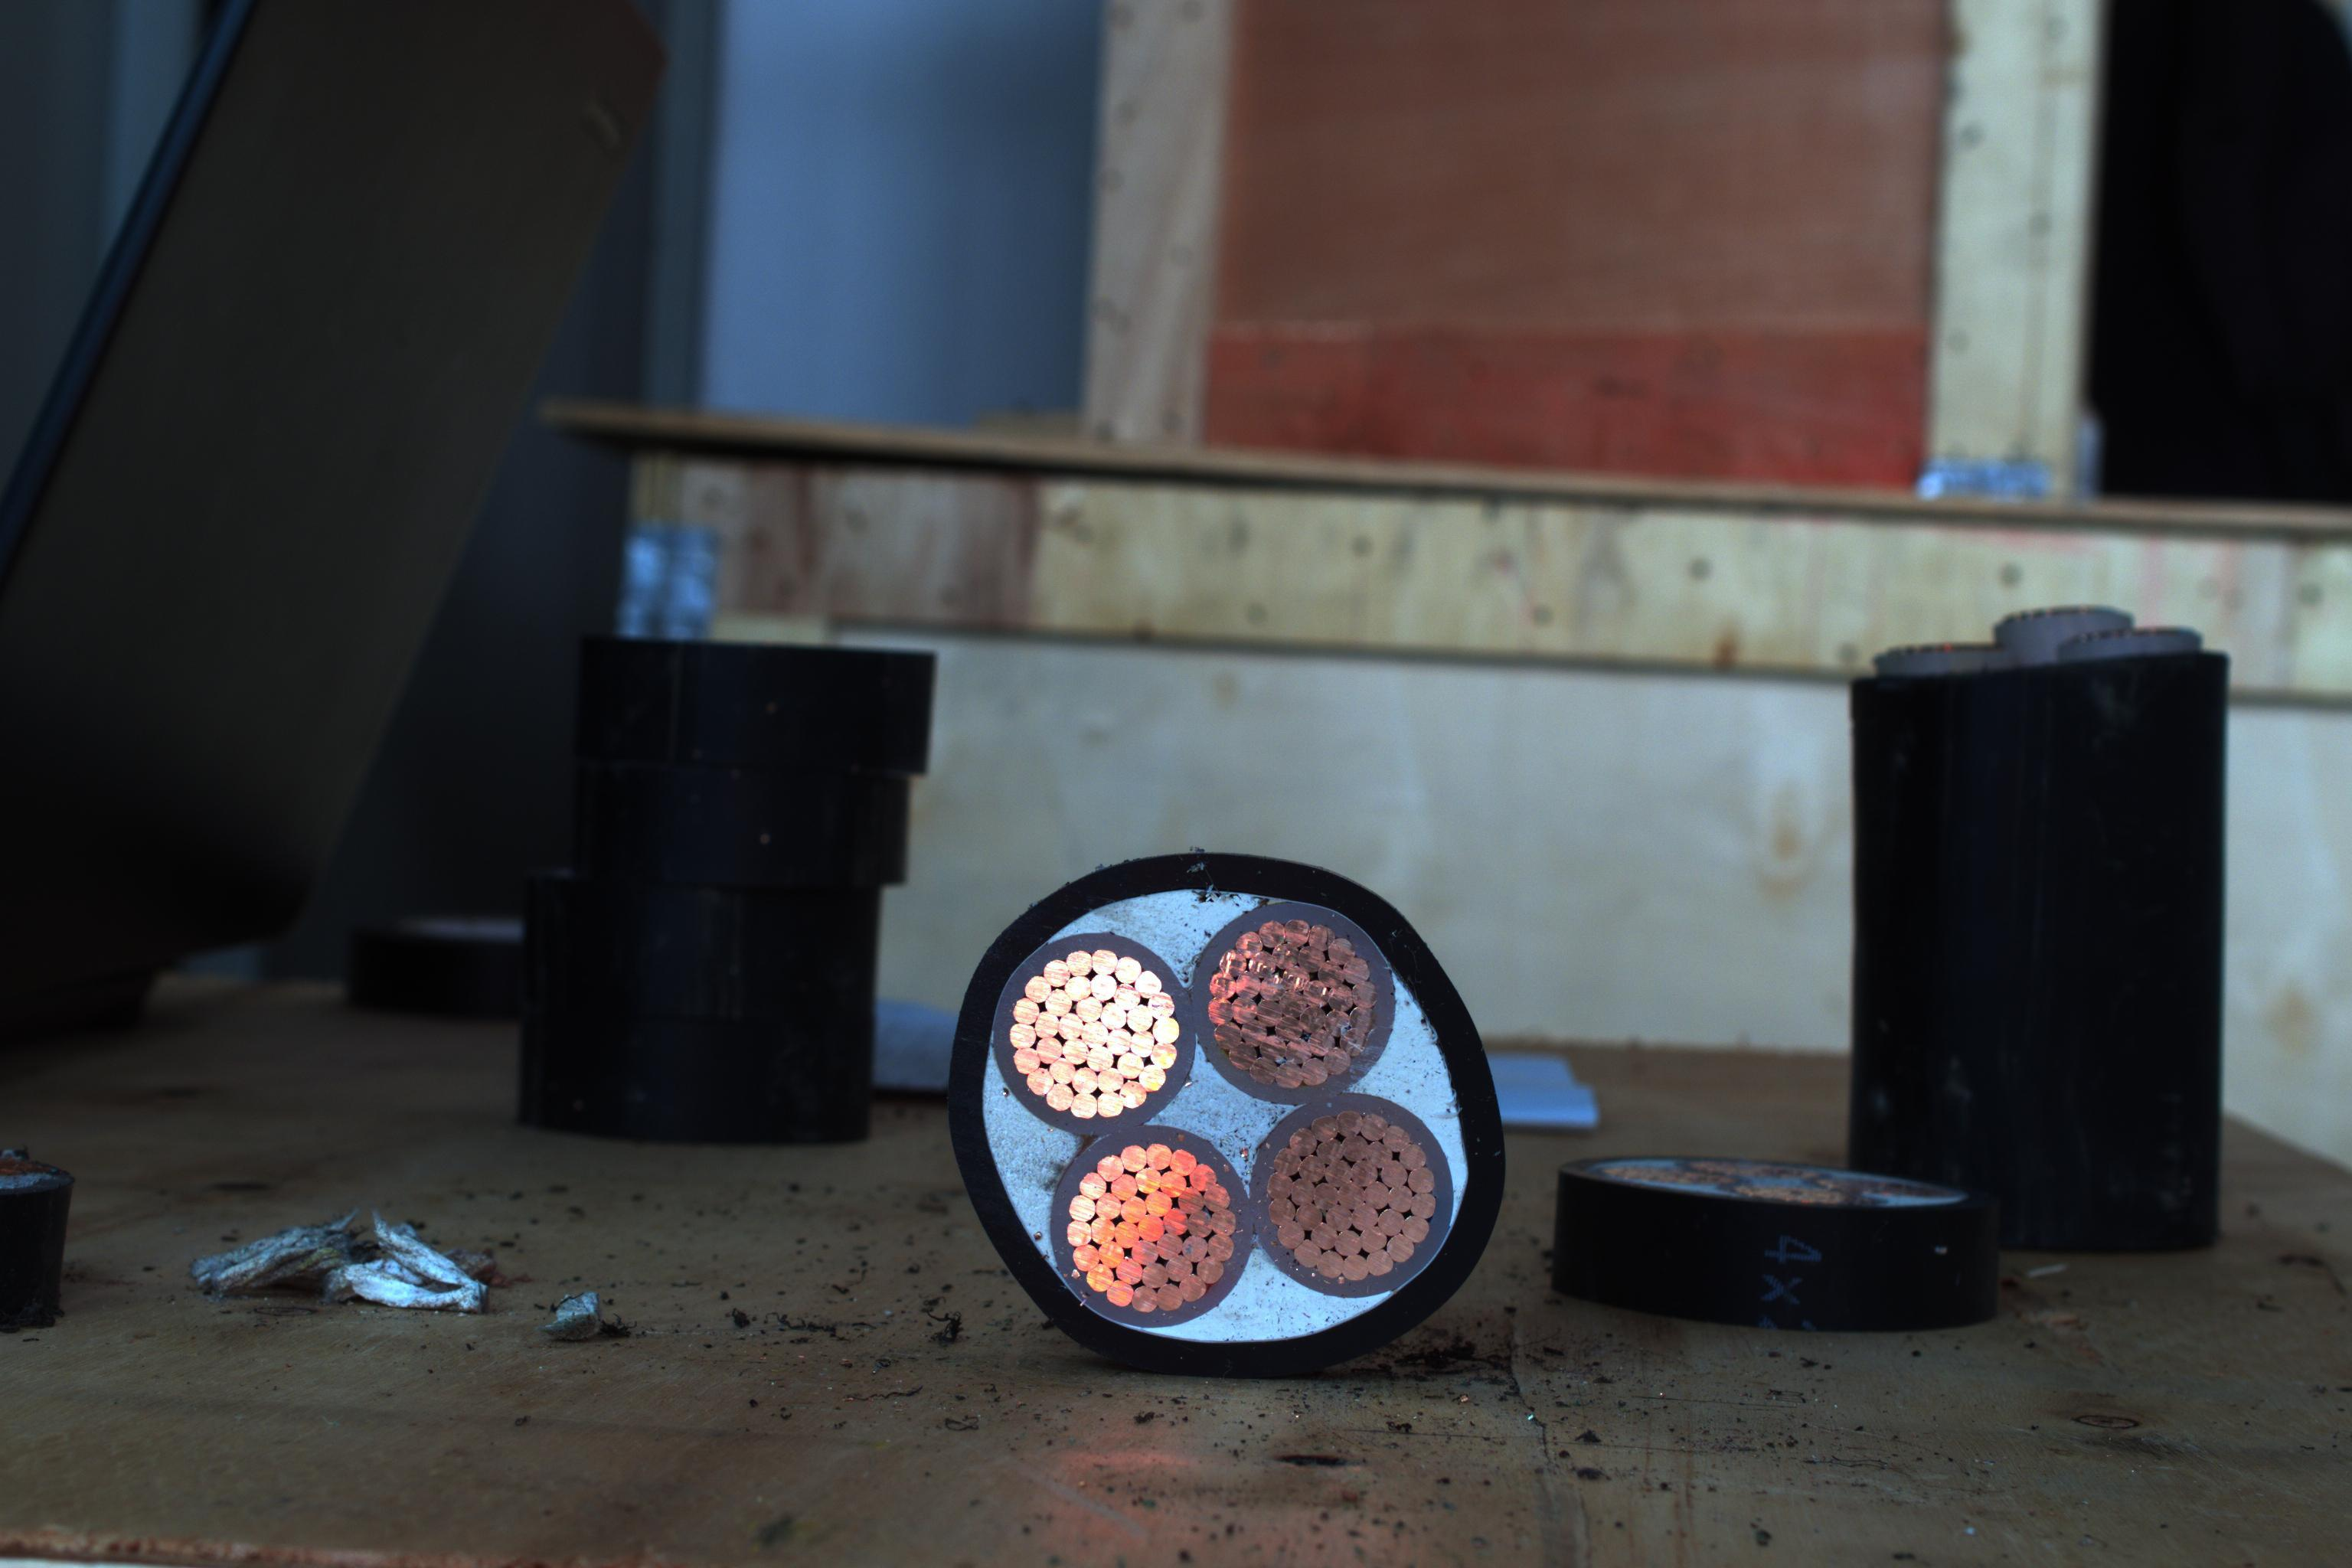YJV_0.6_1kV_4x240: (938, 861, 1494, 1372)
